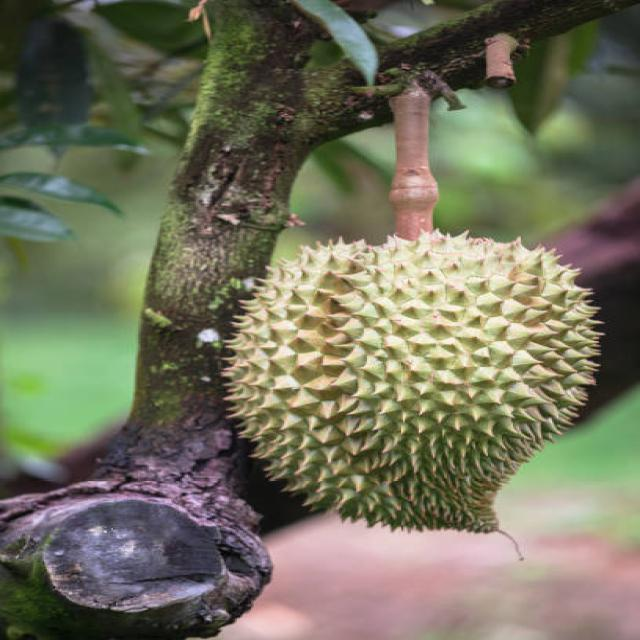mature: (225, 231, 600, 532)
